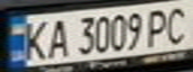0: (109, 10, 130, 52), (93, 11, 112, 54)
3: (75, 14, 96, 56)
9: (124, 8, 148, 51)
A: (42, 16, 72, 60)
C: (160, 2, 193, 45)
K: (18, 16, 51, 61)
P: (142, 6, 175, 48)
